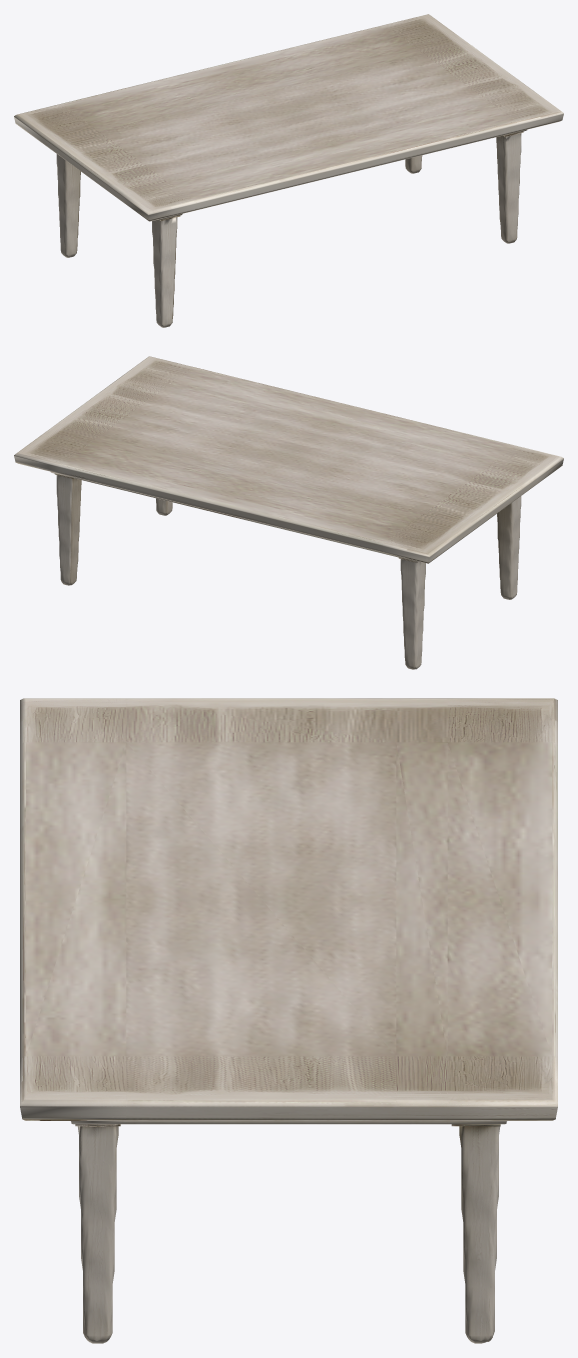
File: limewash_Farm_Table4_0621001647_texture.glb
3 renders of one model, top to bottom at view 1: azimuth 30°, elevation 25°; view 2: azimuth 150°, elevation 25°; view 3: azimuth 270°, elevation 25°, orthographic. The views are drawn at different scales.
Visible parts, largest first — view 1: Mesh_0.003; view 2: Mesh_0.003; view 3: Mesh_0.003.
Part boxes in pixels (x1=…): Mesh_0.003: x1=14, y1=14, x2=563, y2=327; Mesh_0.003: x1=14, y1=356, x2=563, y2=669; Mesh_0.003: x1=20, y1=698, x2=557, y2=1343.
Size of the model in its own units: 2.26 by 0.7112 by 1.27.
Materials: 1 (1 with a texture image).
